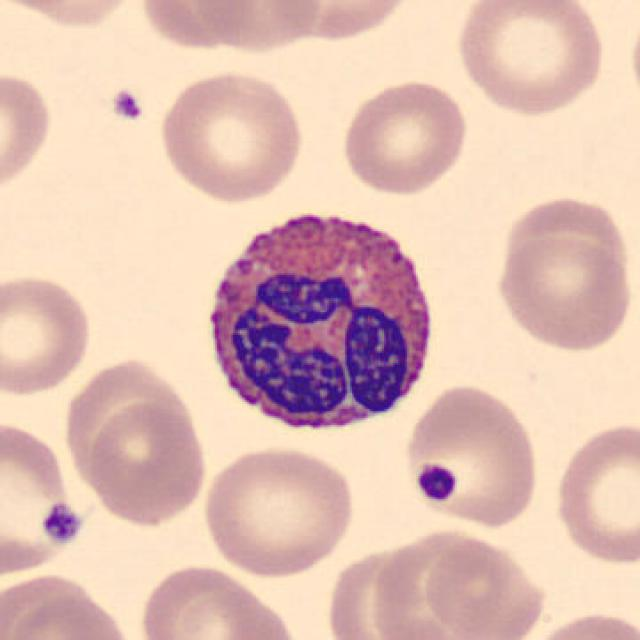Eosinophil: (192, 190, 446, 457)
Platelets: (2, 428, 84, 573), (39, 501, 85, 546), (412, 462, 458, 504), (106, 85, 146, 125)
RBC: (197, 441, 359, 578), (400, 379, 544, 531), (153, 65, 309, 205), (450, 0, 610, 118), (66, 354, 201, 490), (490, 231, 634, 354), (80, 398, 210, 529), (501, 187, 625, 319), (368, 530, 516, 640), (338, 76, 471, 197), (324, 541, 470, 640), (418, 532, 549, 640), (0, 414, 85, 579), (133, 560, 302, 640), (550, 416, 638, 568), (0, 268, 96, 400), (2, 583, 137, 640), (187, 0, 325, 55), (0, 65, 55, 199), (137, 0, 263, 53), (168, 590, 300, 640), (264, 0, 419, 42), (4, 0, 146, 32), (522, 606, 638, 640), (627, 3, 640, 125)
